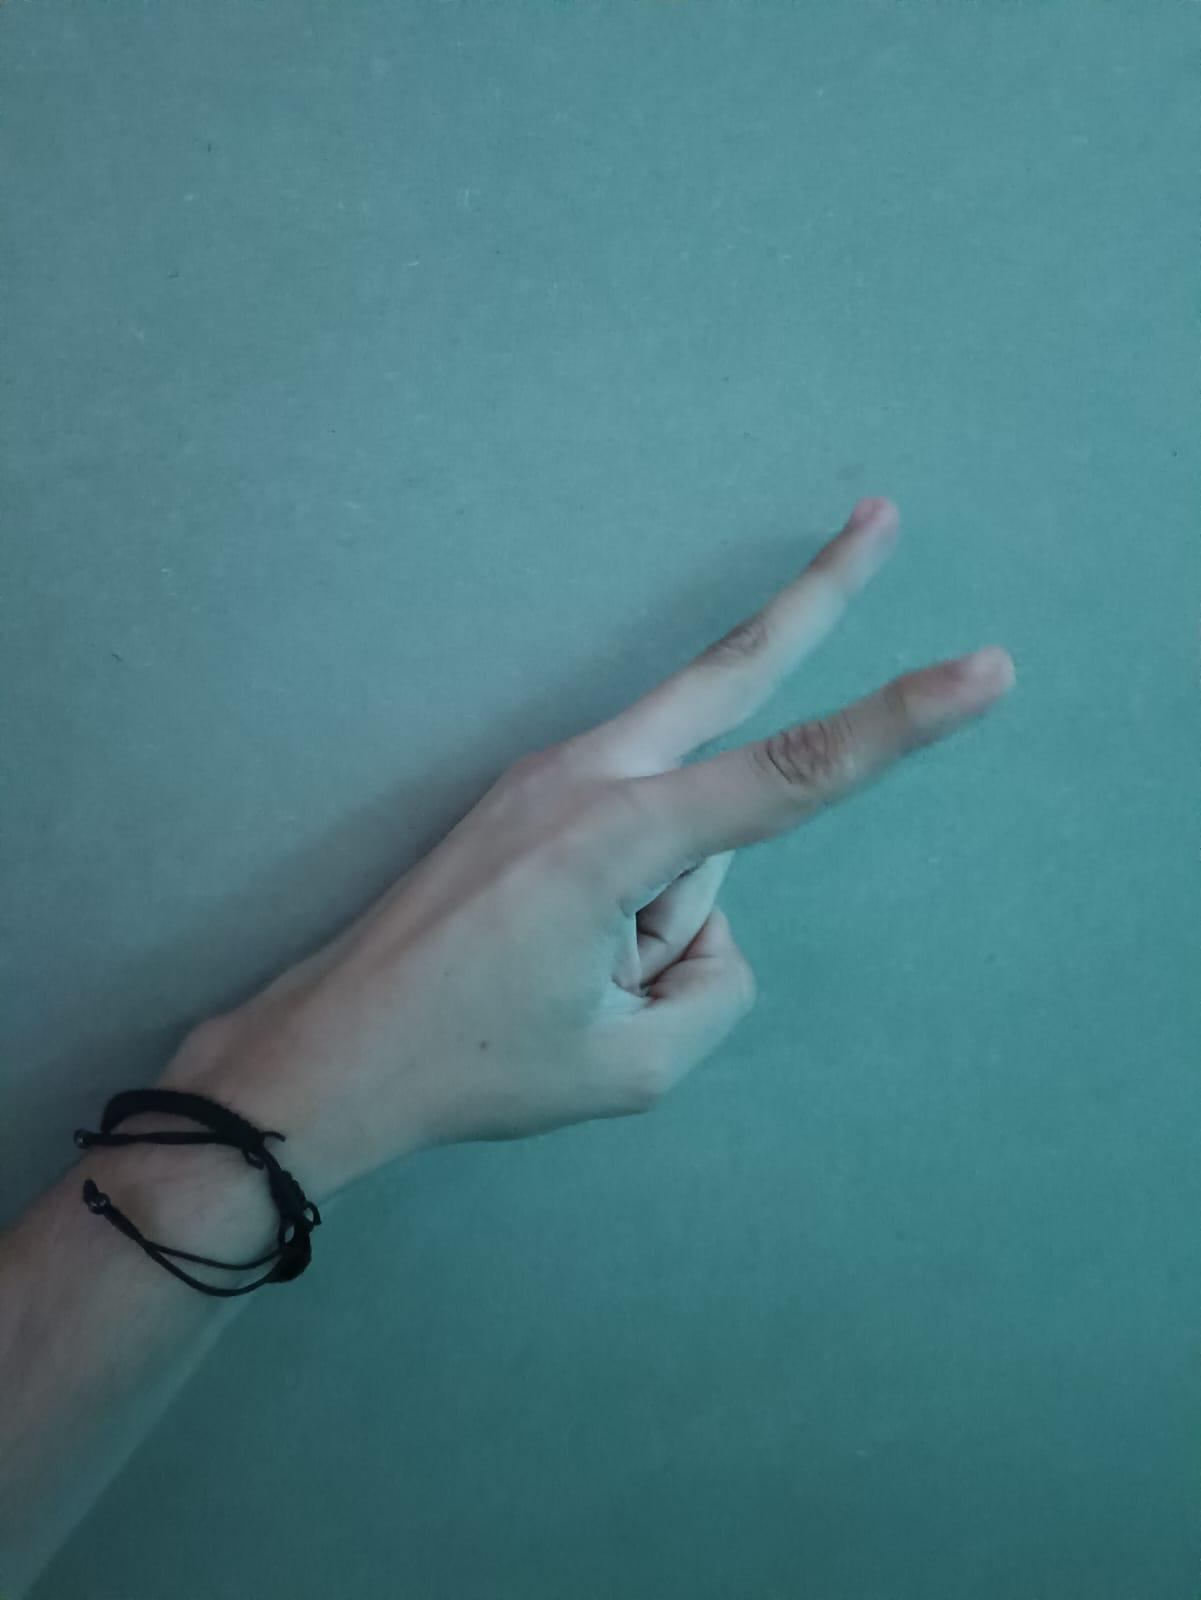Scissor: (27, 473, 1056, 1296)
